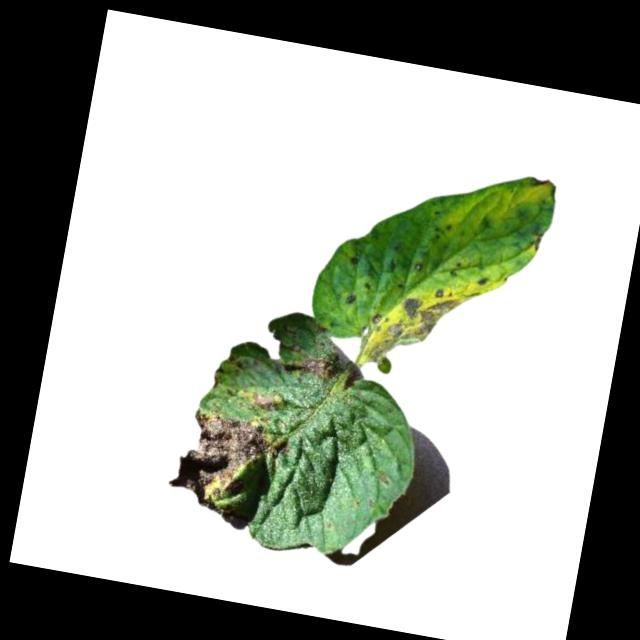Early_blight: (162, 405, 291, 527), (357, 276, 465, 382), (300, 348, 346, 385), (527, 173, 560, 199), (249, 388, 282, 414), (349, 248, 361, 265)
